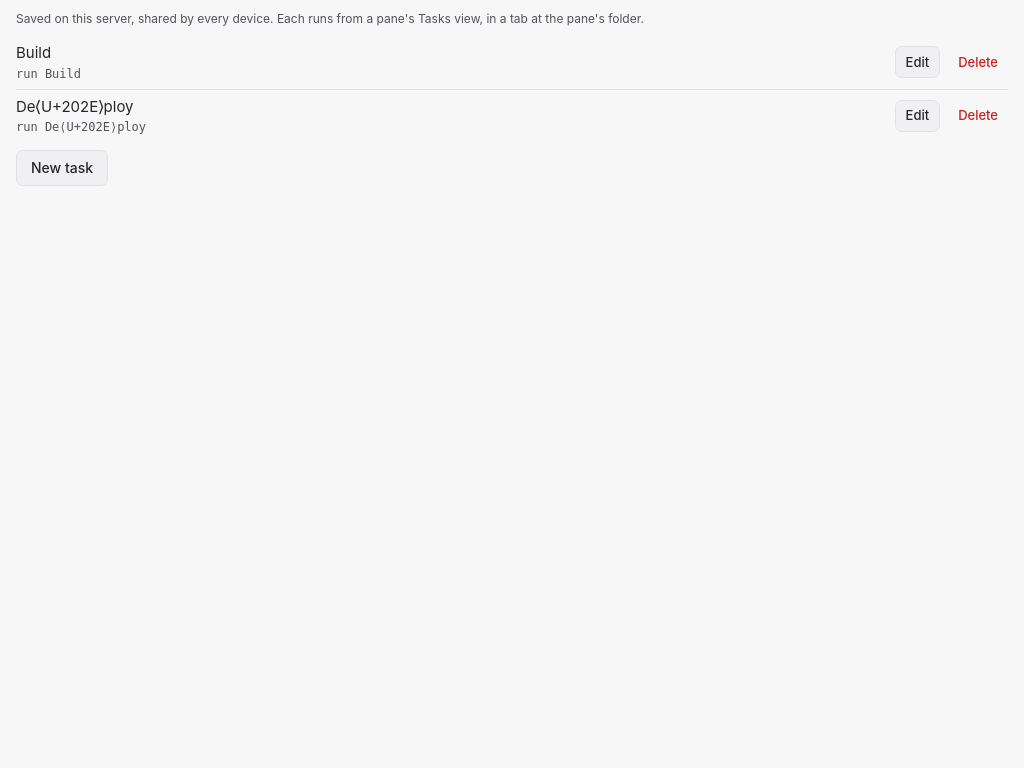
it: UserTasksSection › deletes after asking, naming the version shown
Step 1. Click the button with aria-label "Delete Build" → x=978, y=62, box [948,46,1008,78]
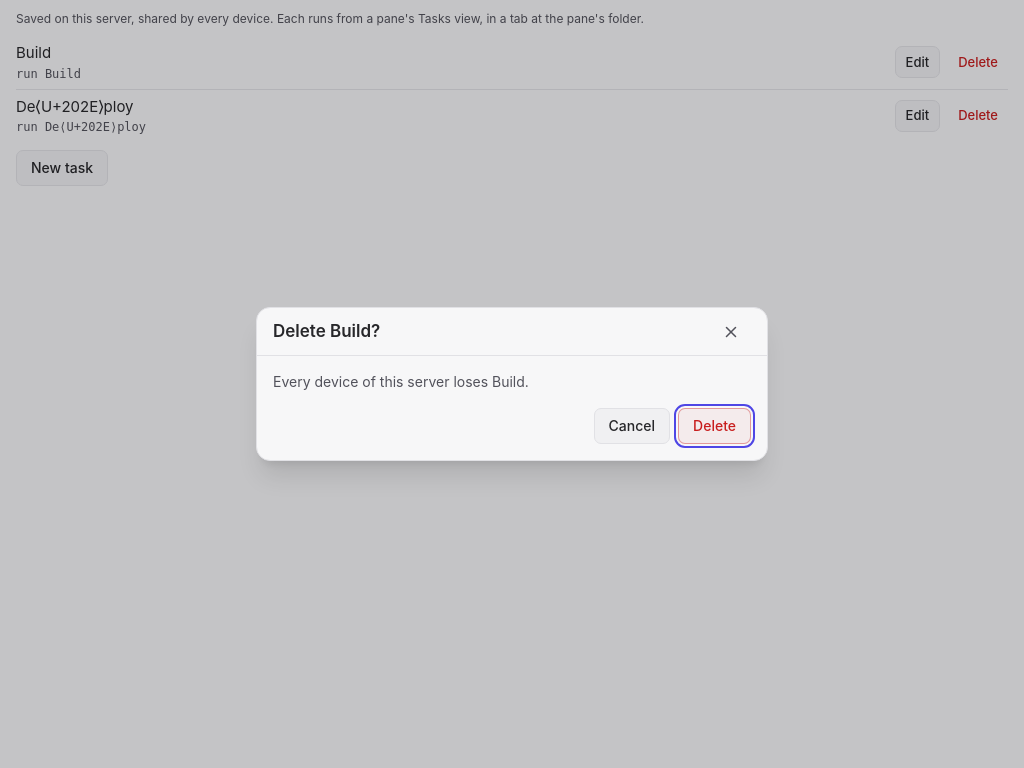
Result: the dialog shows "Every device of this server loses Build." at [273,373,529,390]
Step 2. Click the button "Delete" → x=715, y=426, box [678,408,751,444]
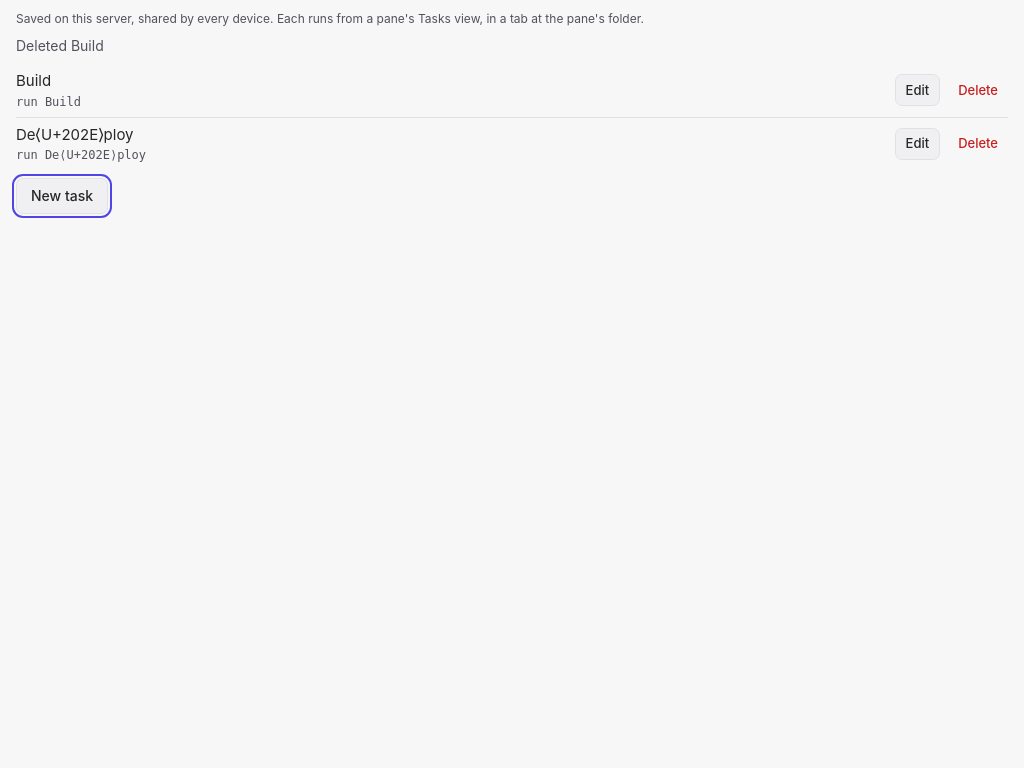
Result: the message reads "Deleted Build" at [16,37,104,54]
Result: the dialog is gone
